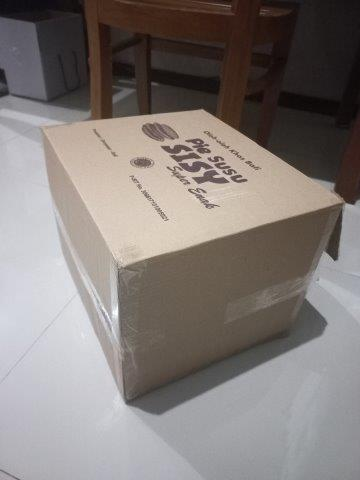kardus: (39, 109, 340, 405)
